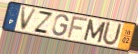F: (66, 16, 90, 40)
G: (51, 14, 70, 37)
M: (82, 18, 108, 44)
U: (101, 20, 123, 47)
V: (20, 7, 39, 32)
Z: (32, 10, 54, 36)
